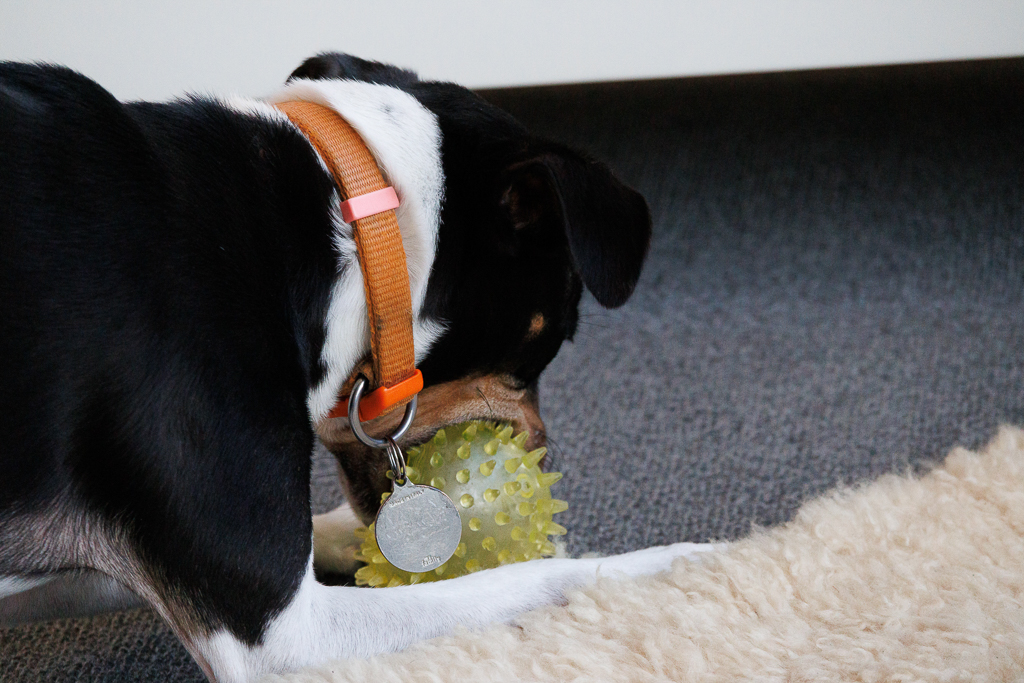Dog: (0, 33, 748, 682)
